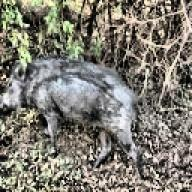boar: (0, 53, 146, 177)
